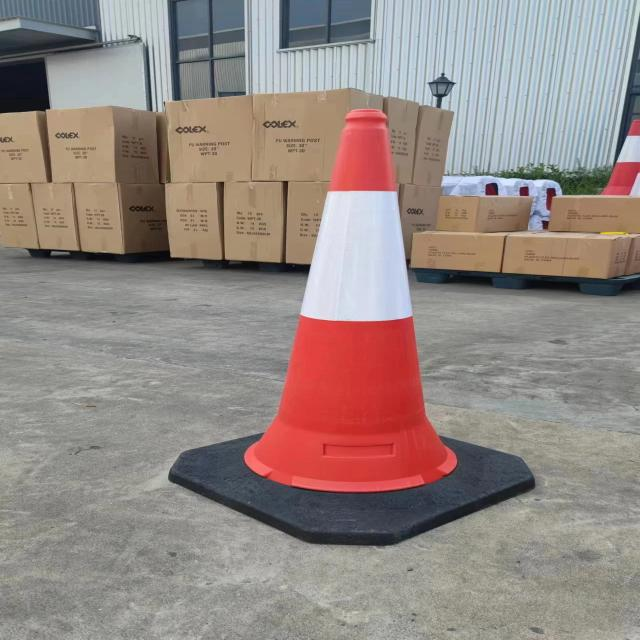Traffic Cone: (122, 48, 580, 571)
